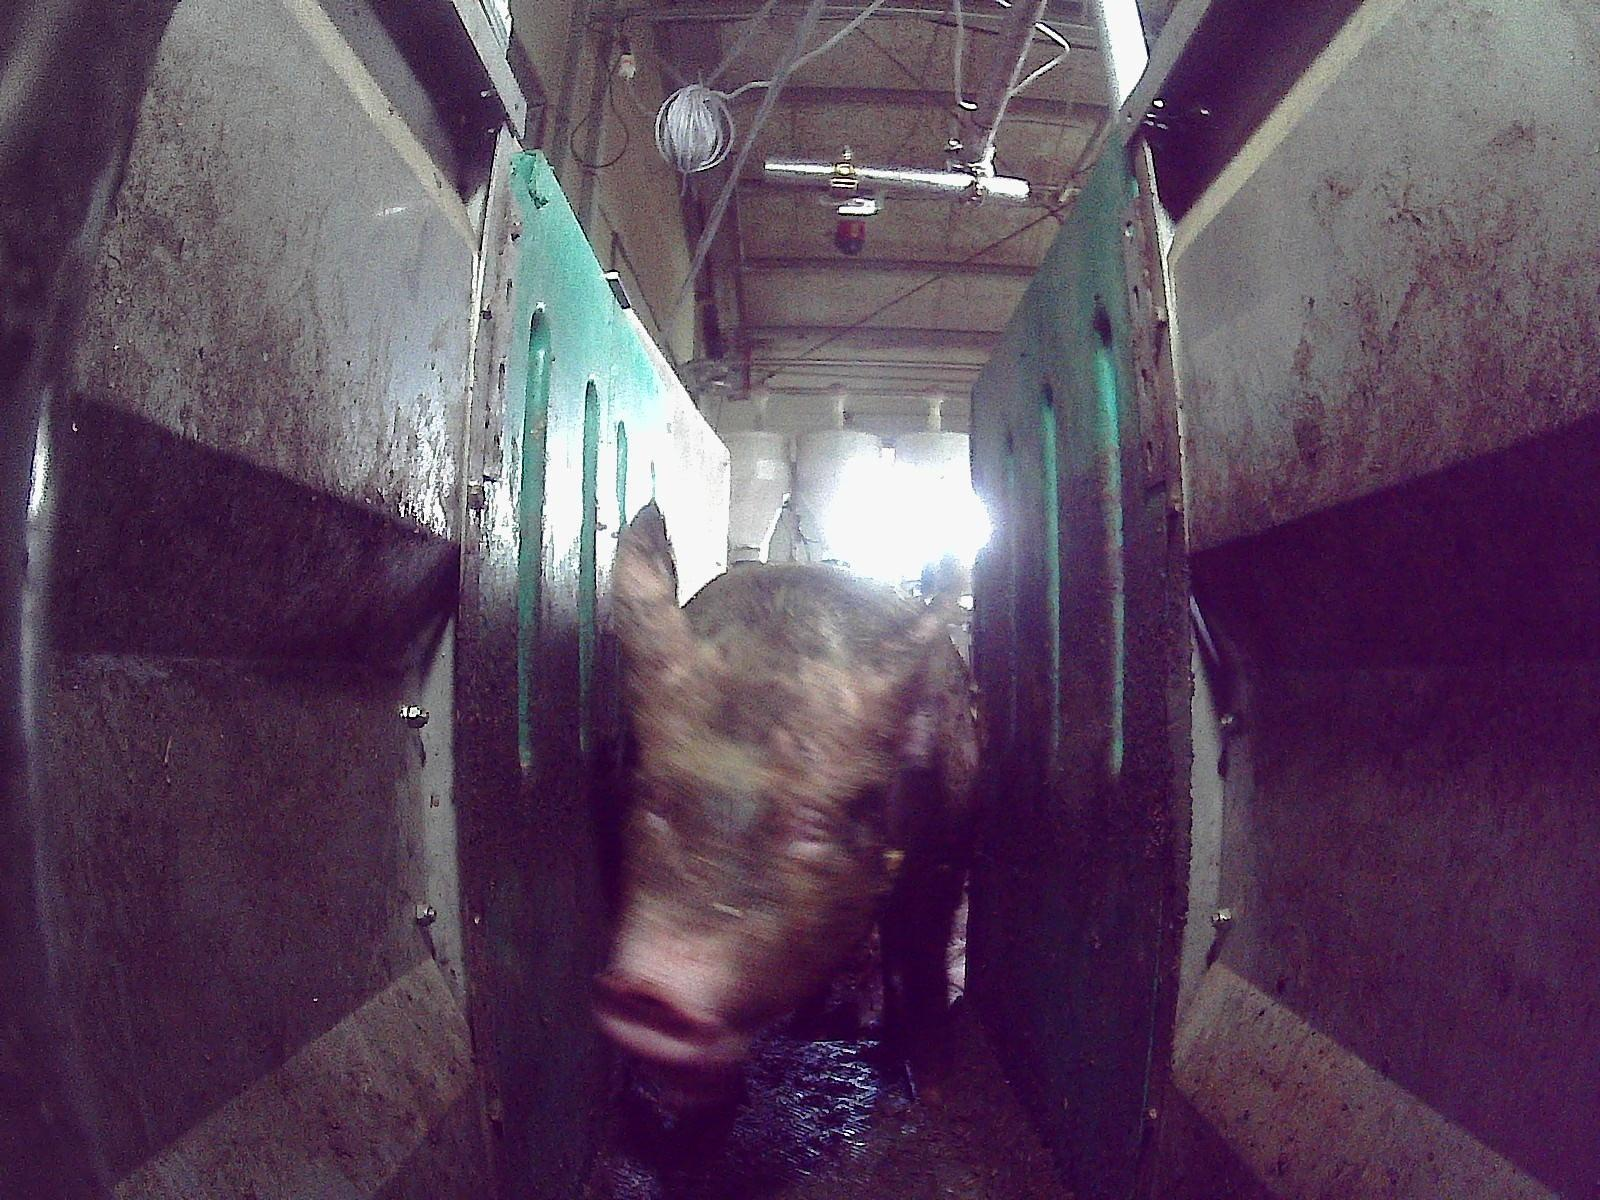Face: (586, 618, 912, 1071)
